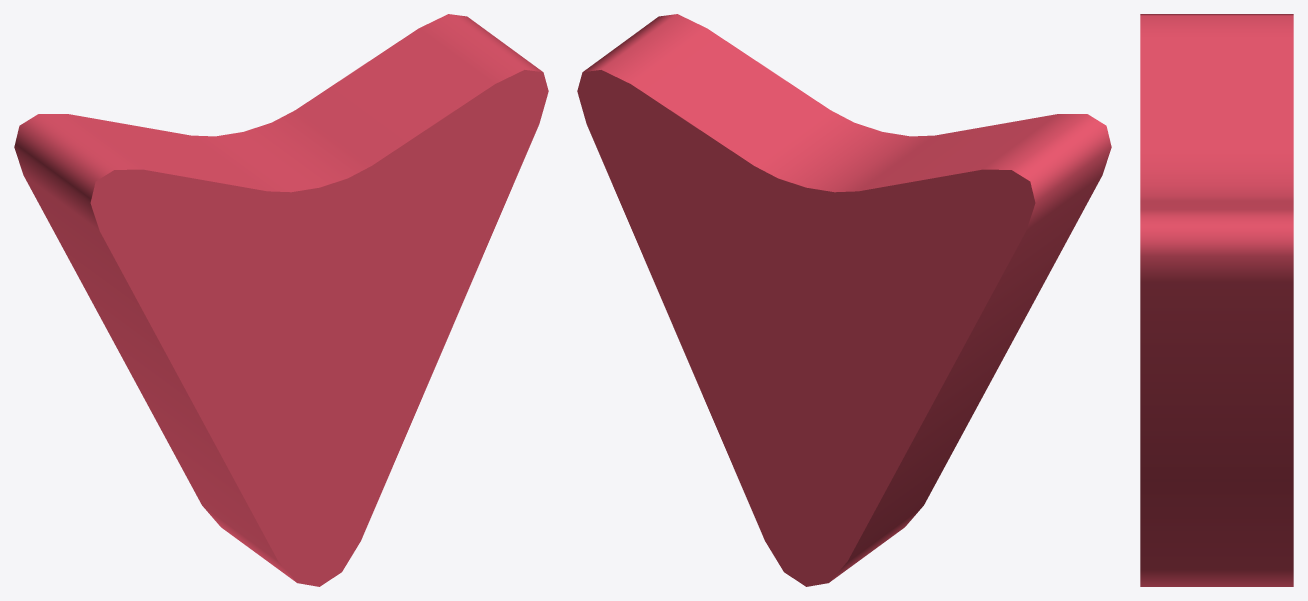
Rendered from Arrow.fbx.
The picture shows the model from 3 angles, left to right: view 1: azimuth 30°, elevation 25°; view 2: azimuth 150°, elevation 25°; view 3: azimuth 270°, elevation 25°; orthographic projection.
Visible parts, largest first — view 1: Cube.019; view 2: Cube.019; view 3: Cube.019.
Boxes of the visible parts, x1,y1,x2,y2 form: Cube.019: (14, 14, 548, 586); Cube.019: (577, 14, 1111, 586); Cube.019: (1140, 14, 1293, 586).
Bounding box in the file's own units: 0.5715 × 0.5568 × 0.1647.
